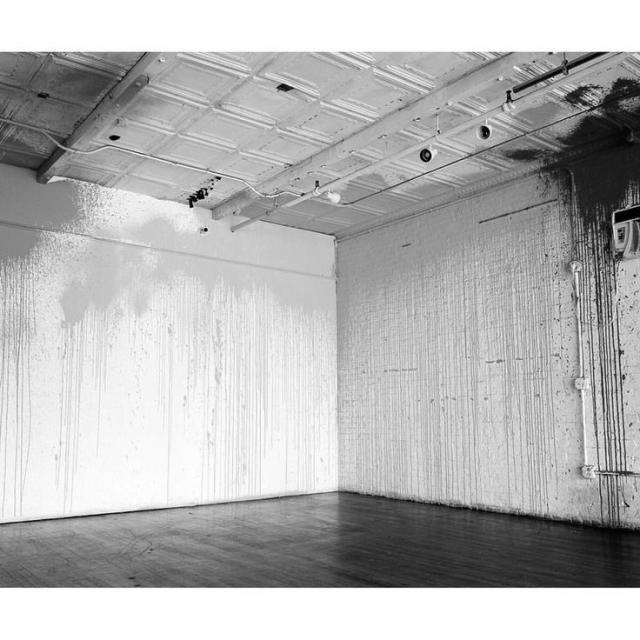paint drips: (340, 212, 570, 504), (134, 275, 336, 505), (577, 207, 629, 528), (0, 246, 36, 524), (84, 298, 125, 455), (51, 313, 82, 520)
